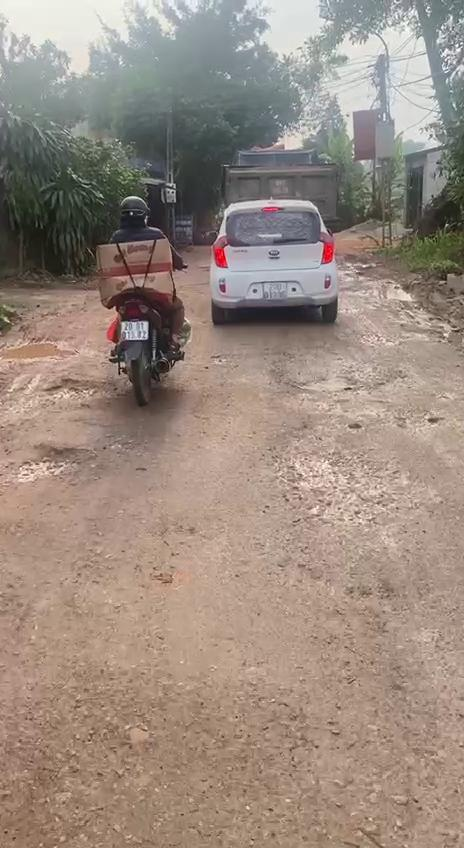pothole: (274, 415, 438, 530), (265, 354, 406, 396), (1, 446, 94, 488), (41, 377, 124, 406)
